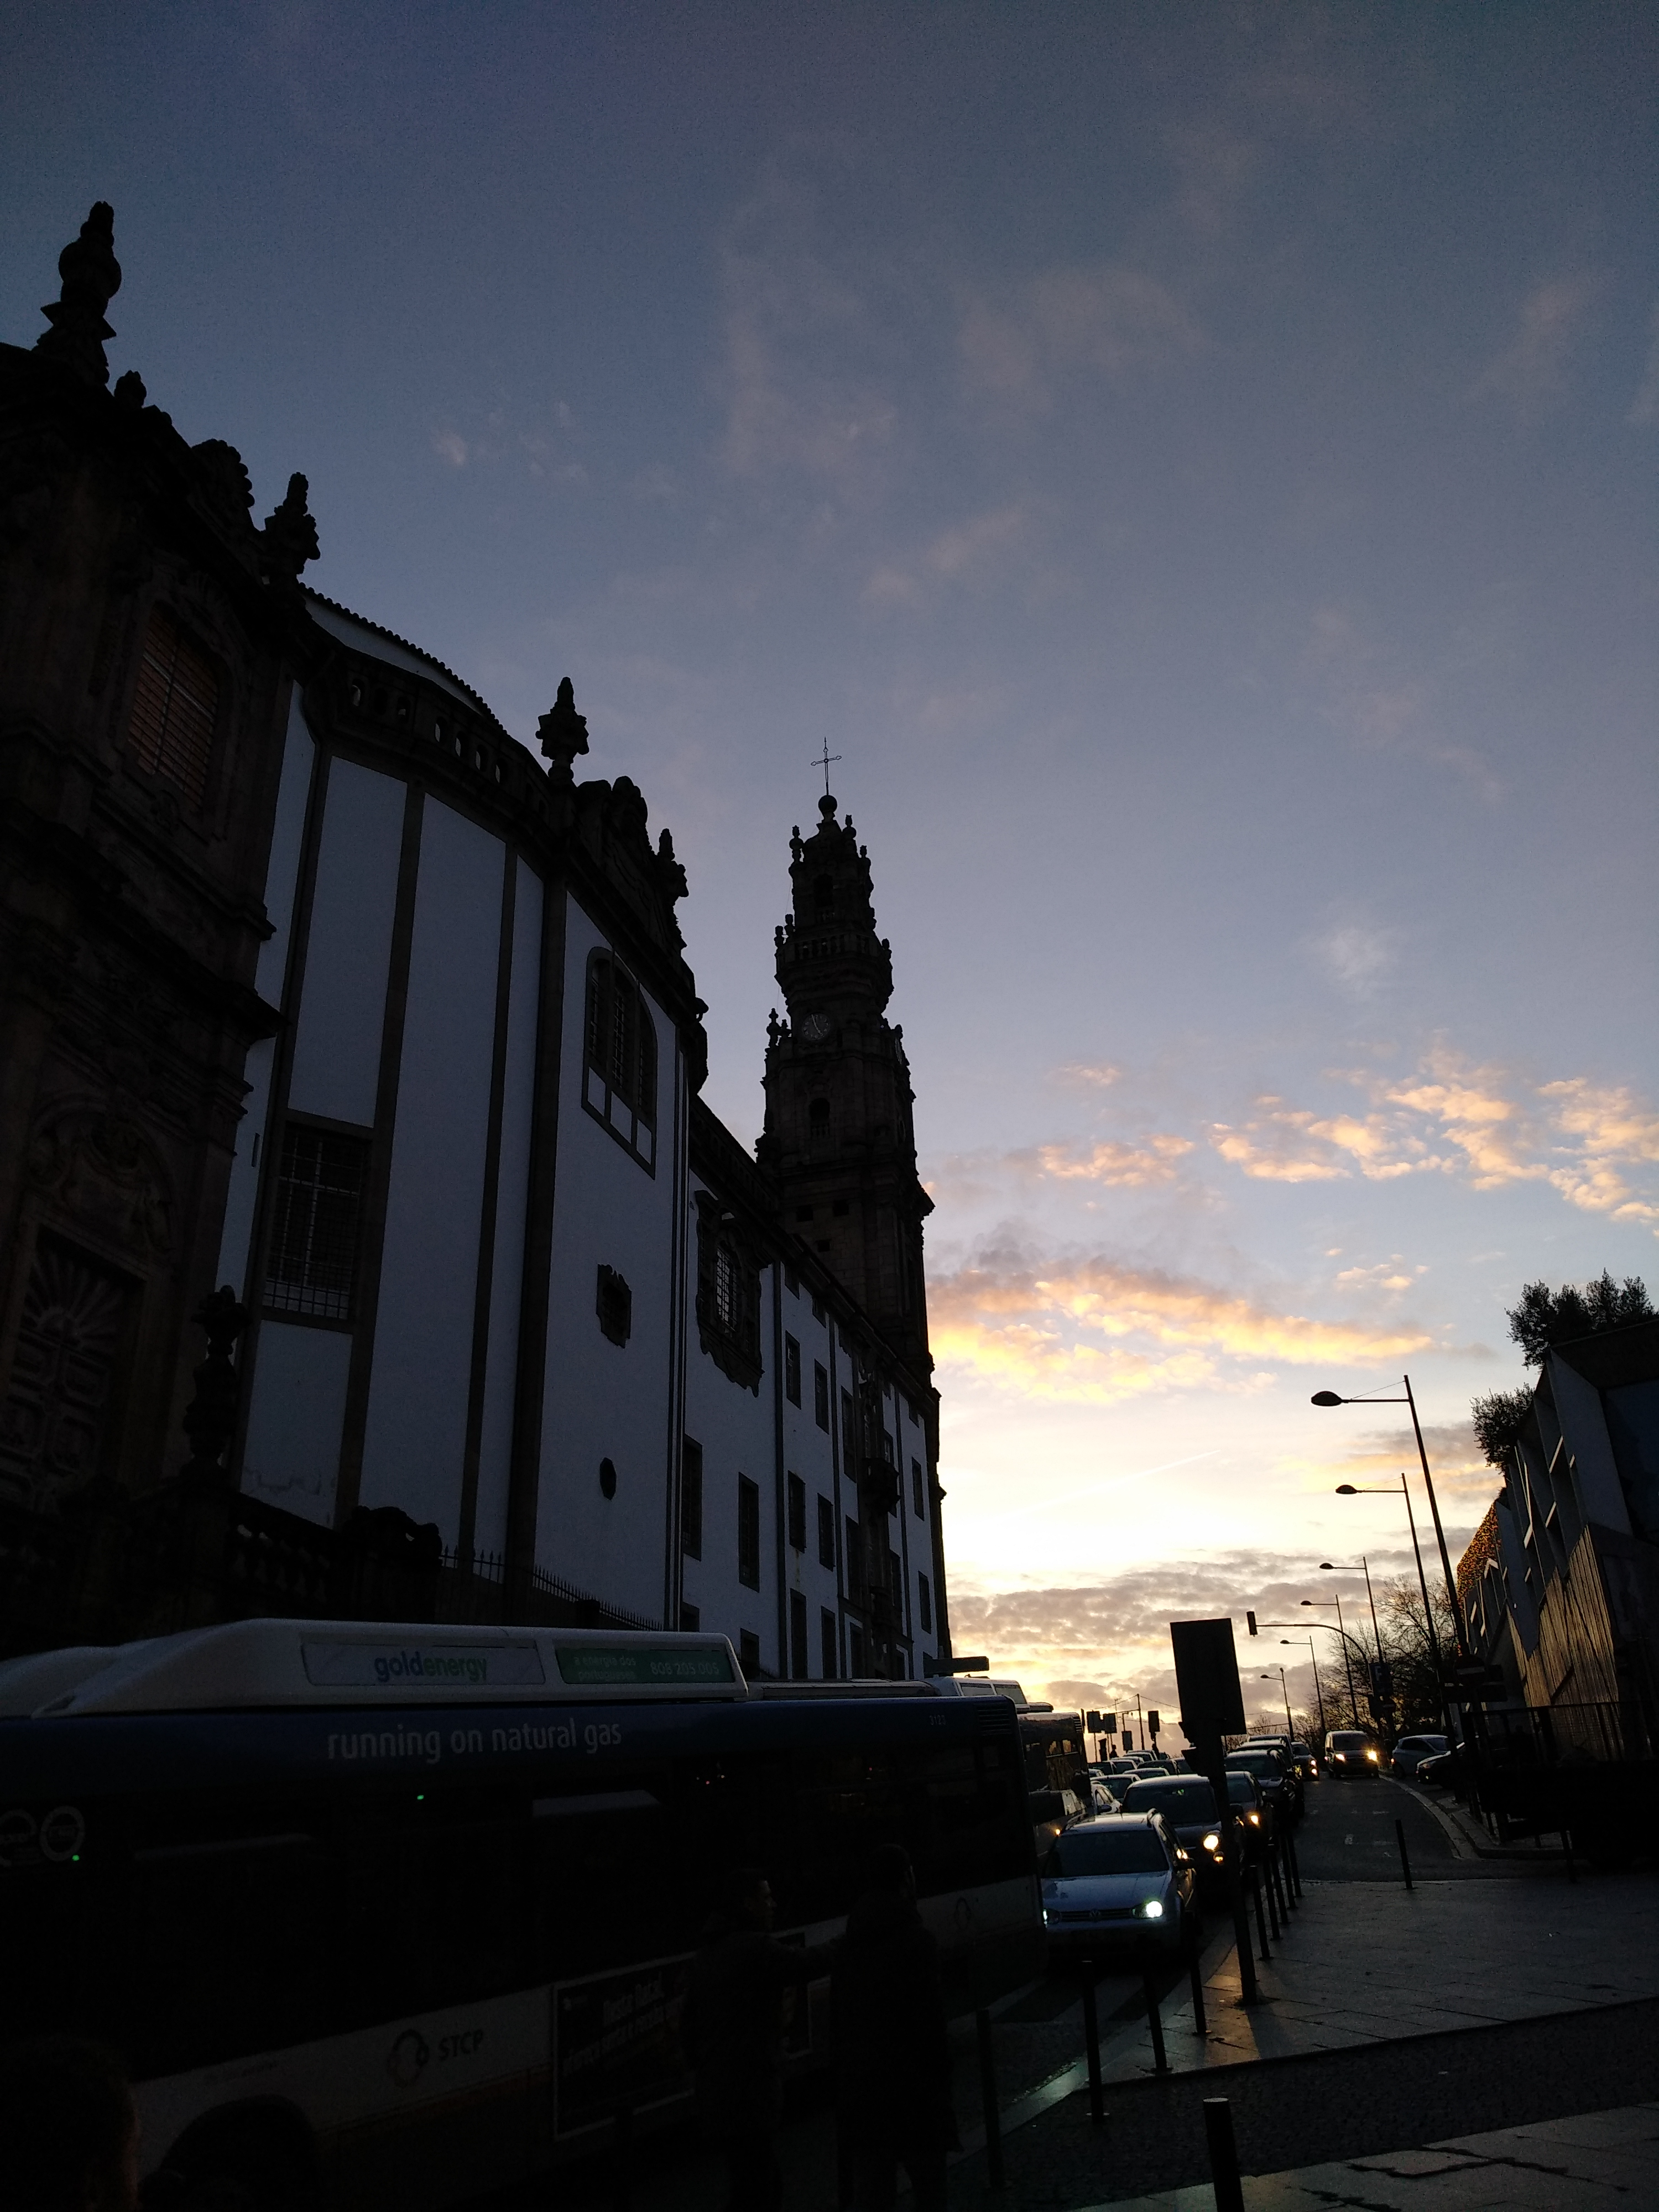clerigos: (225, 655, 720, 721)
